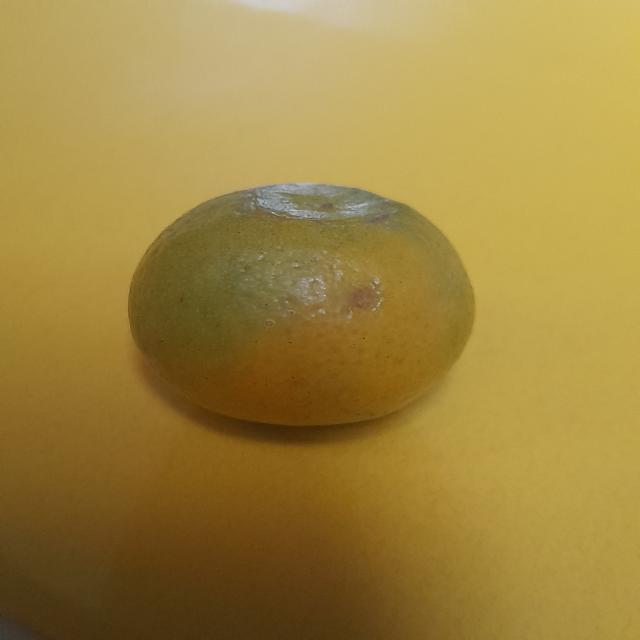greening: (128, 182, 481, 428)
